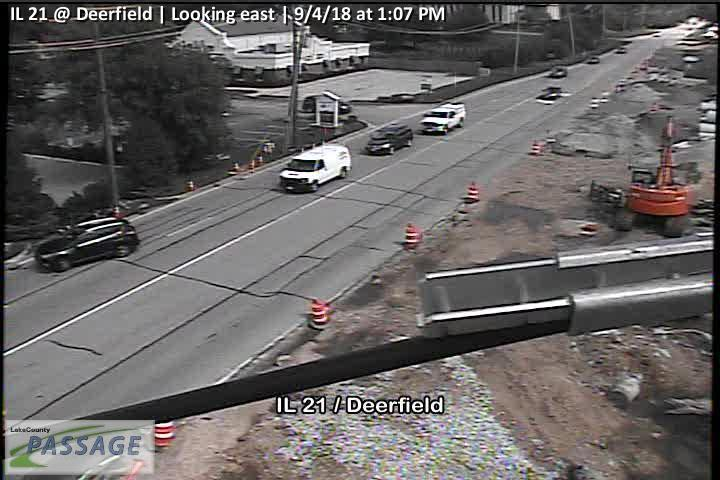SUV: (36, 217, 138, 272), (280, 145, 352, 194), (365, 123, 414, 156)
Sedan: (302, 94, 351, 113)
Truck: (421, 102, 466, 134)
